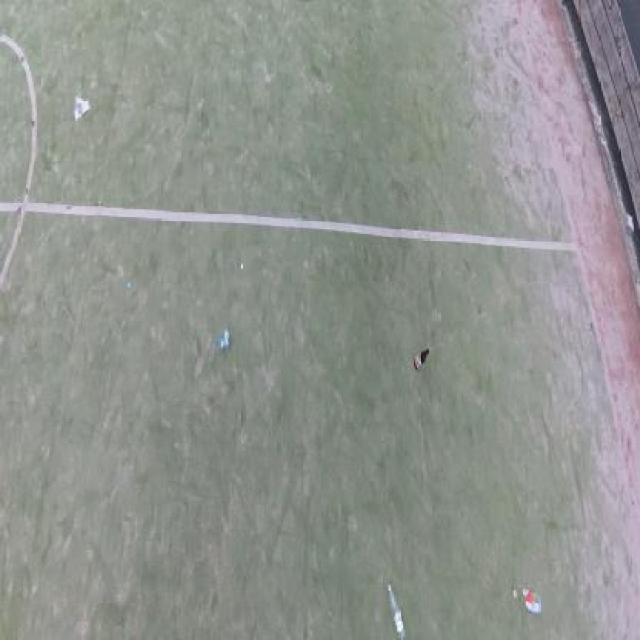Garbage: (387, 582, 406, 639), (512, 587, 540, 614), (74, 97, 90, 122), (413, 349, 428, 371), (215, 328, 230, 350), (127, 281, 130, 289), (240, 261, 242, 269)
